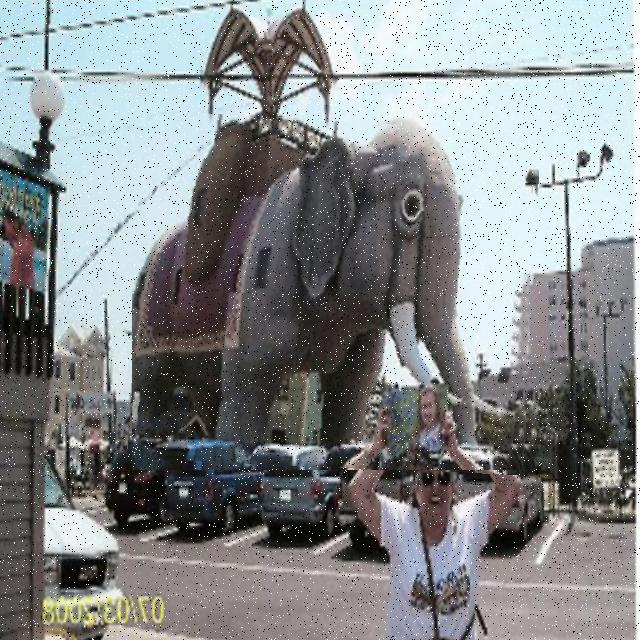elephant: (132, 115, 536, 470)
